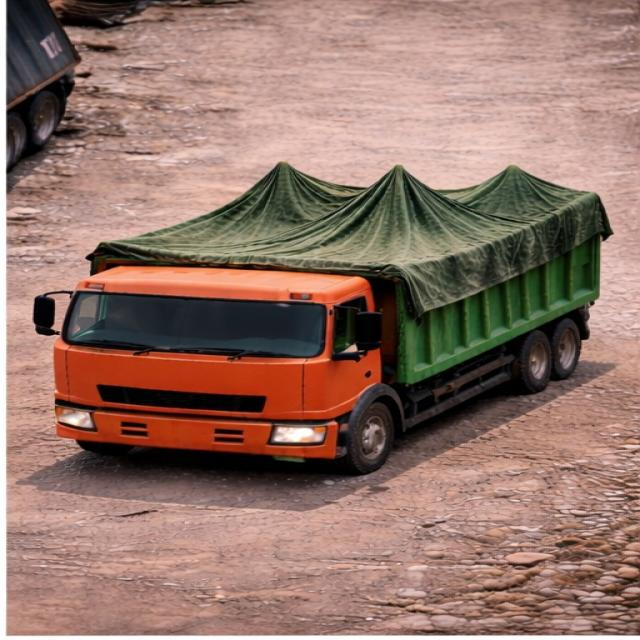Box: (107, 162, 596, 272)
Truck: (34, 156, 611, 458)
